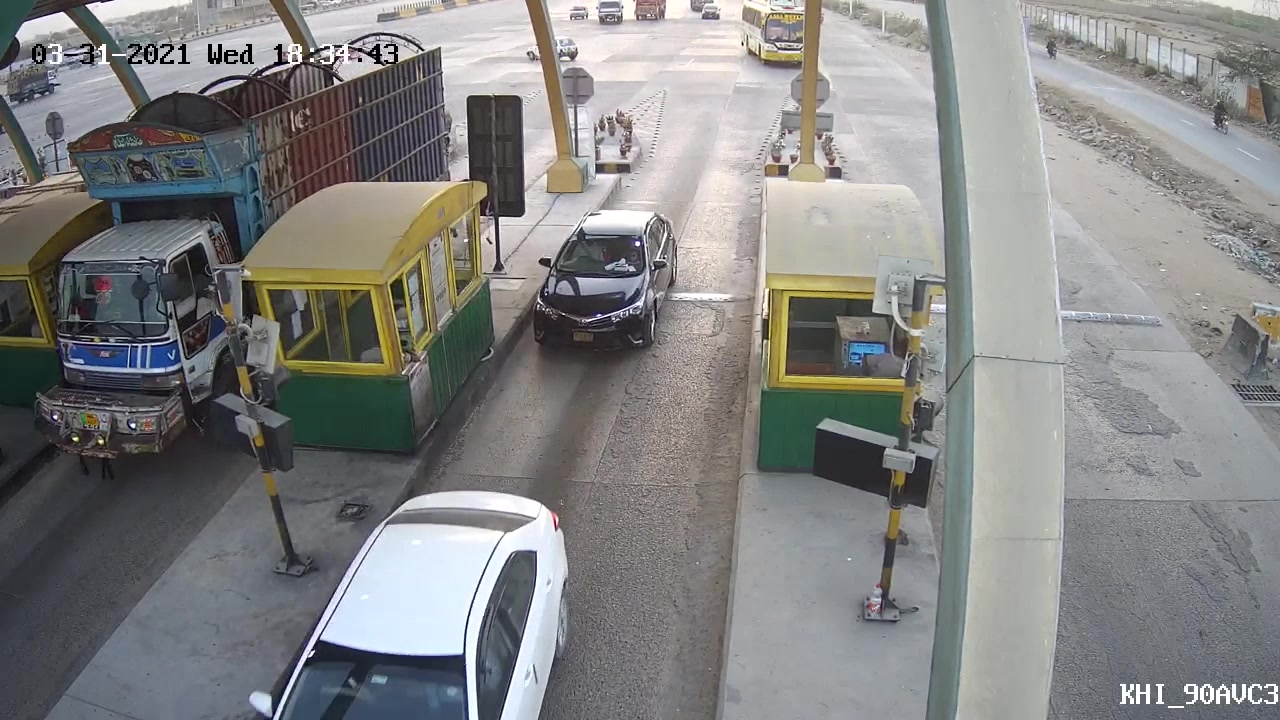F1: (525, 195, 679, 371)
